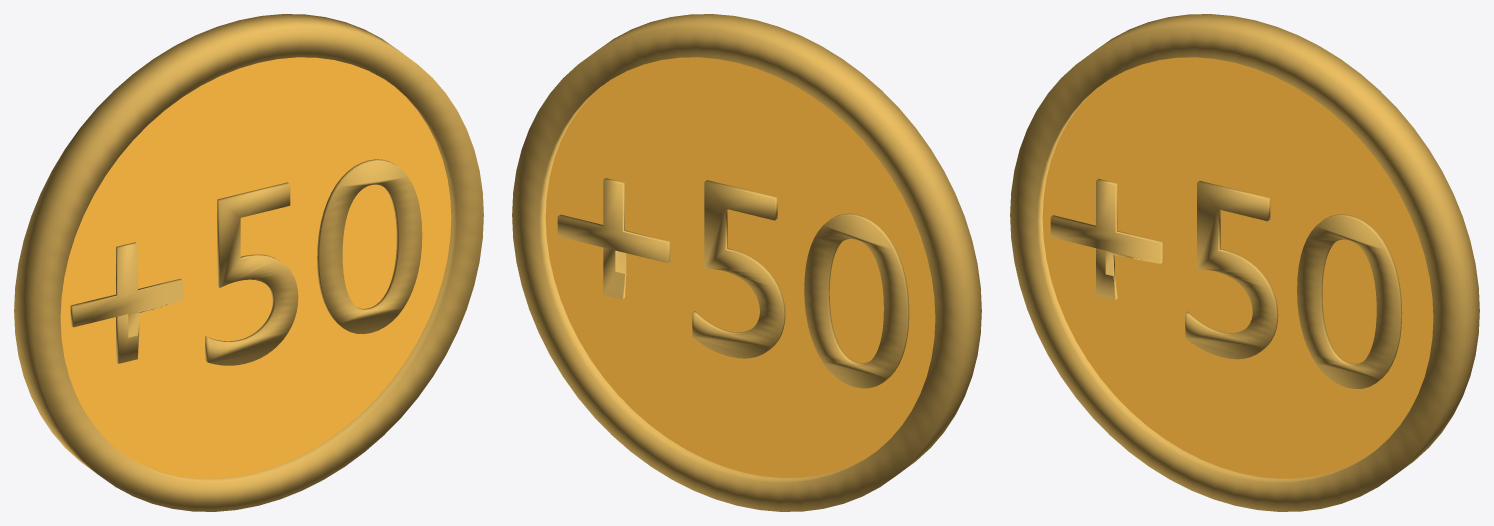
File: Coin2.fbx
3 renders of one model, left to right at view 1: azimuth 30°, elevation 25°; view 2: azimuth 150°, elevation 25°; view 3: azimuth 330°, elevation 25°, orthographic.
Visible parts, largest first — view 1: Carrot.002; view 2: Carrot.002; view 3: Carrot.002.
Boxes of the visible parts, x1,y1,x2,y2 form: Carrot.002: [14, 14, 483, 511]; Carrot.002: [512, 14, 981, 511]; Carrot.002: [1010, 14, 1479, 511].
Bounding box in the file's own units: 48.85 × 48.85 × 4.09.
